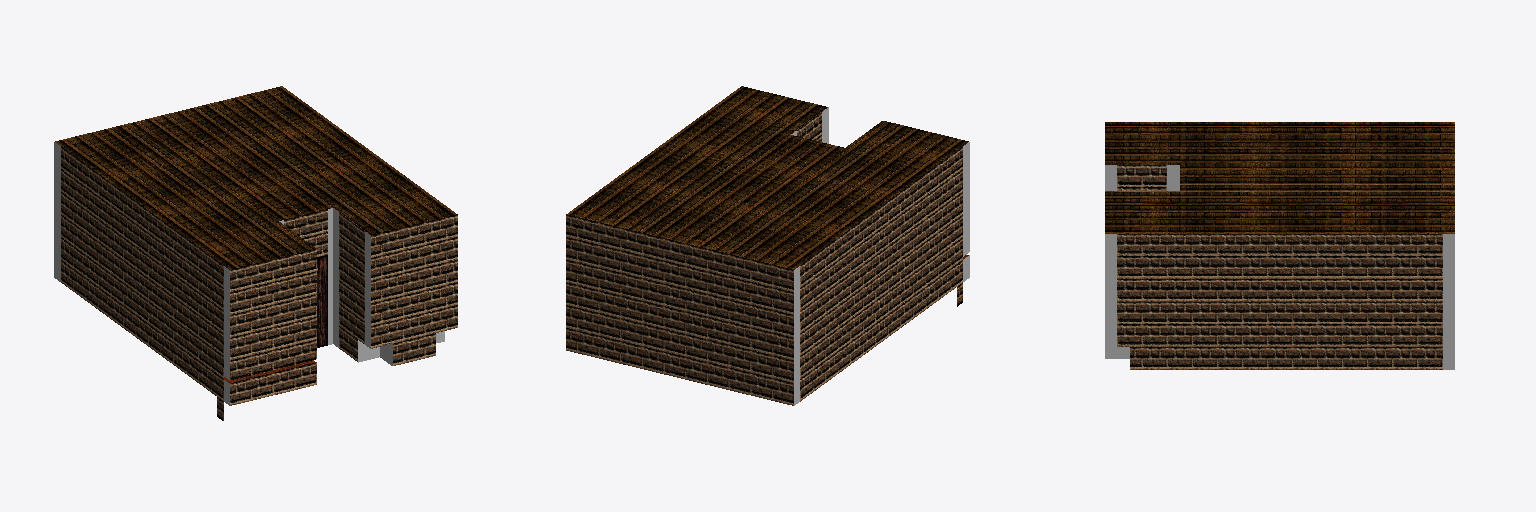
The picture shows the model from 3 angles: view 1: azimuth 30°, elevation 25°; view 2: azimuth 150°, elevation 25°; view 3: azimuth 270°, elevation 25°; orthographic projection.
Parts seen in each view (by area): view 1: Room1; view 2: Room1; view 3: Room1.
Part boxes in pixels (x1,y1,x2,y2): Room1: (54,86,457,420); Room1: (566,86,969,405); Room1: (1105,122,1454,369).
Bounding box in the file's own units: 672 × 440 × 896.
Materials: 8 (5 with a texture image).